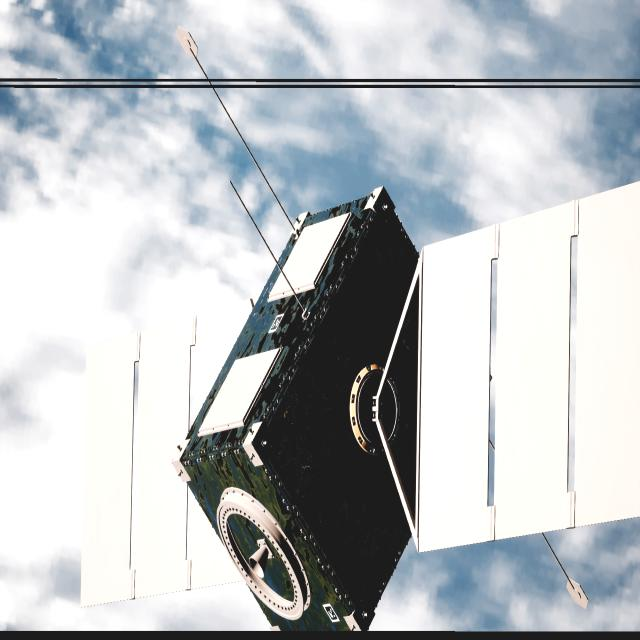satellite: (79, 182, 640, 631)
